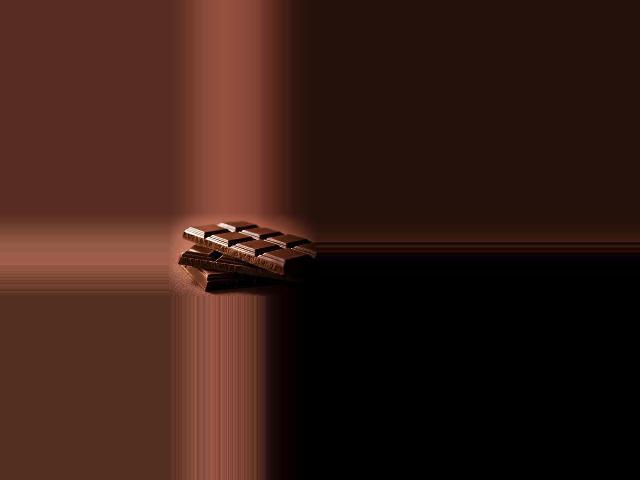chocolate: (179, 222, 312, 283)
